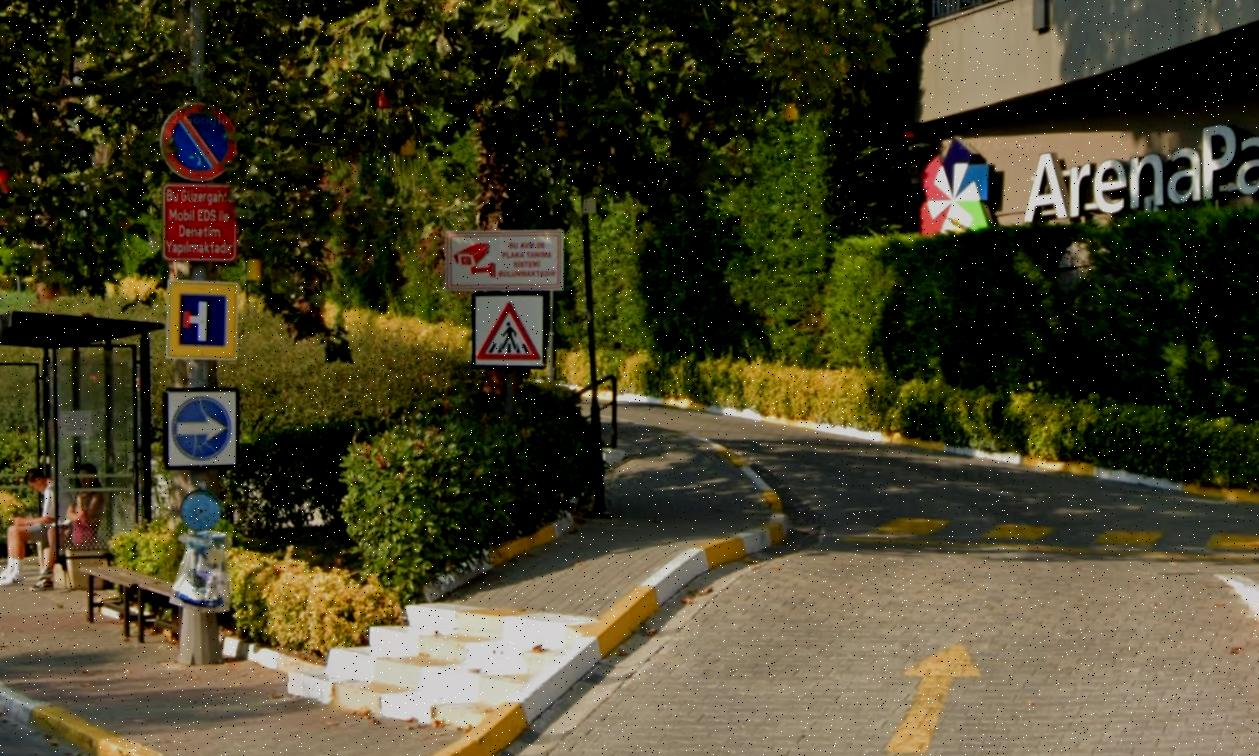turnright: (169, 392, 235, 464)
